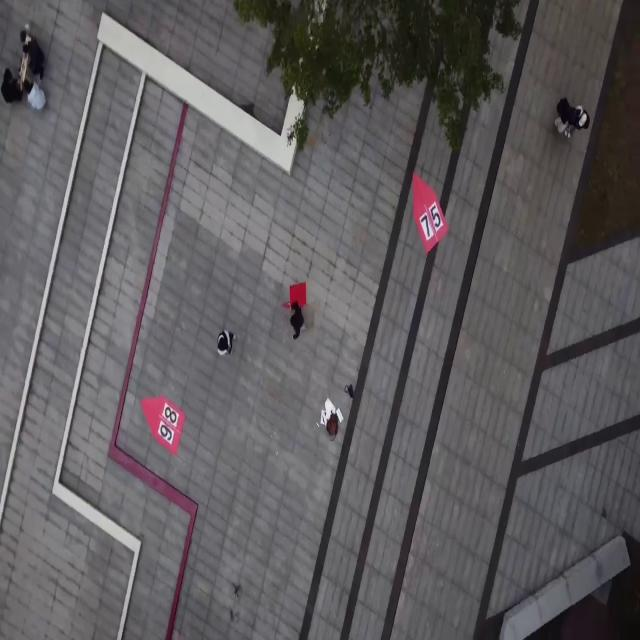-sign-: (411, 171, 449, 255), (140, 394, 186, 457), (282, 282, 307, 311)
